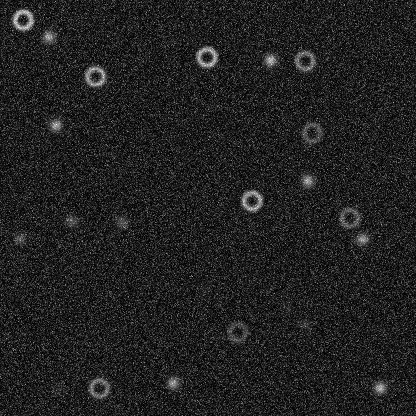Ring: (299, 120, 323, 144), (225, 319, 249, 343), (86, 375, 110, 399), (239, 188, 263, 212), (337, 205, 361, 229), (10, 7, 34, 31), (83, 64, 107, 88), (292, 48, 316, 72), (194, 44, 218, 68)
Spot: (262, 52, 278, 68), (299, 172, 315, 188), (47, 117, 63, 133), (40, 28, 56, 44), (279, 298, 295, 314), (113, 213, 129, 229), (196, 280, 212, 296), (354, 230, 370, 246), (63, 212, 79, 228), (164, 374, 180, 390), (295, 315, 311, 331), (11, 230, 27, 246), (371, 379, 387, 395), (49, 382, 65, 398)
